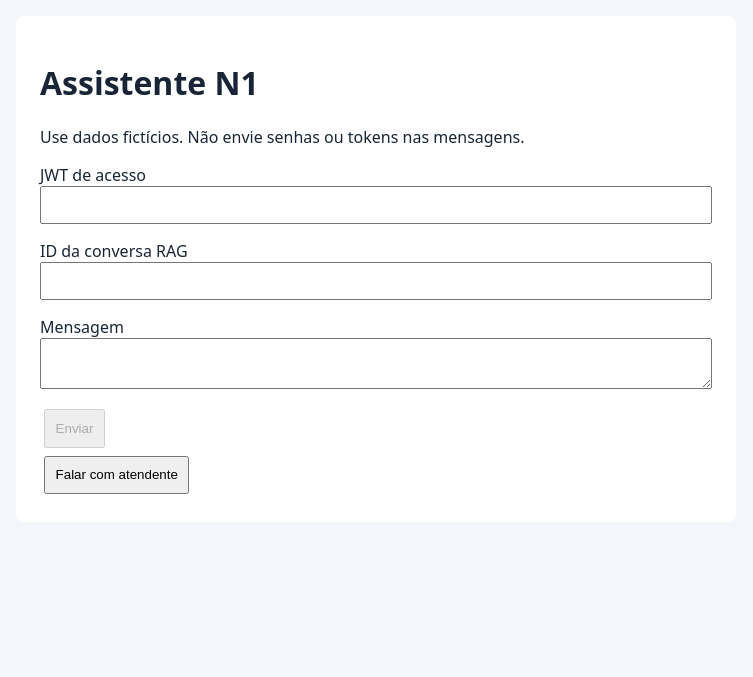
envia mensagem autenticada e apresenta resposta e confirmação
Later steps or results of the test are not shown.
Step 1. Type "jwt-ficticio" into the password field labelled "JWT de acesso" → (376, 205), box [40, 186, 712, 224]
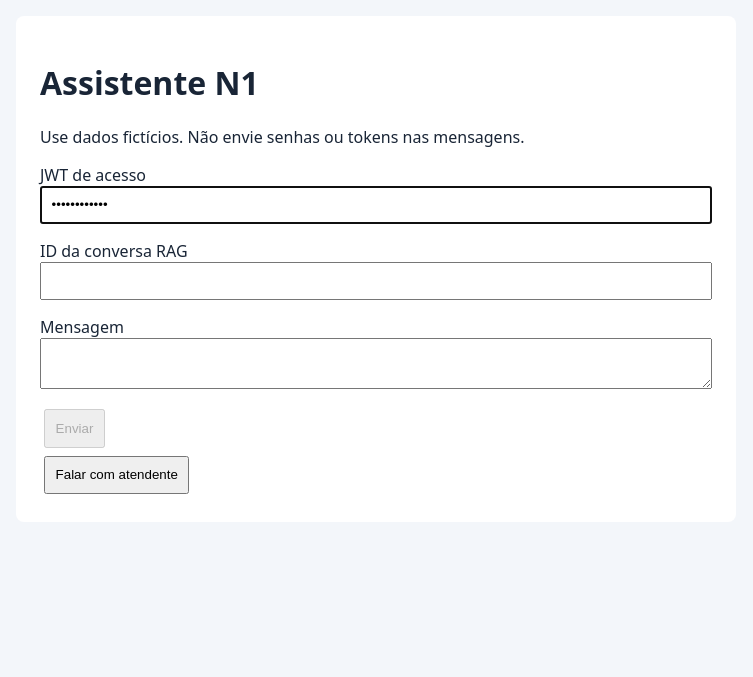
Step 2. Type "rag-123" into the field labelled "ID da conversa RAG" → (376, 281), box [40, 262, 712, 300]
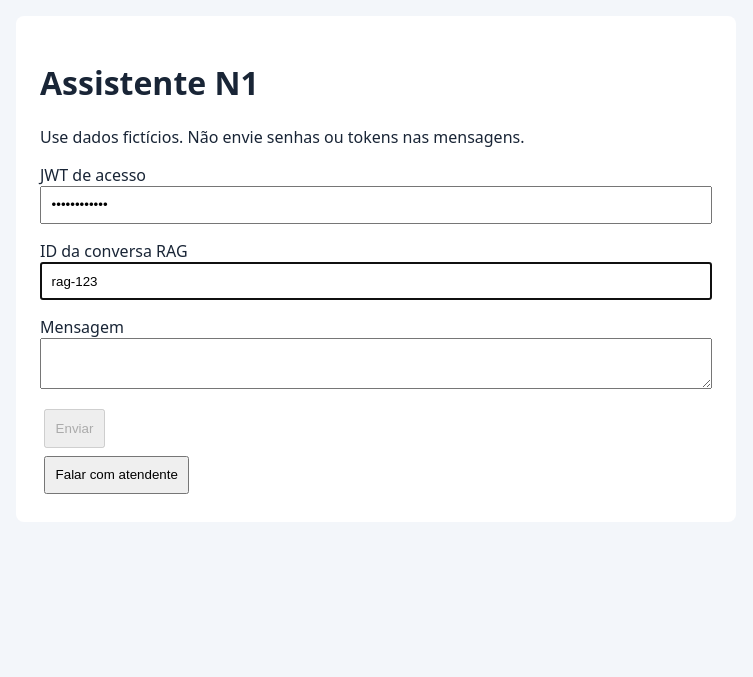
Step 3. Type "Preciso de ajuda" into the text box labelled "Mensagem" → (376, 364), box [40, 338, 712, 390]
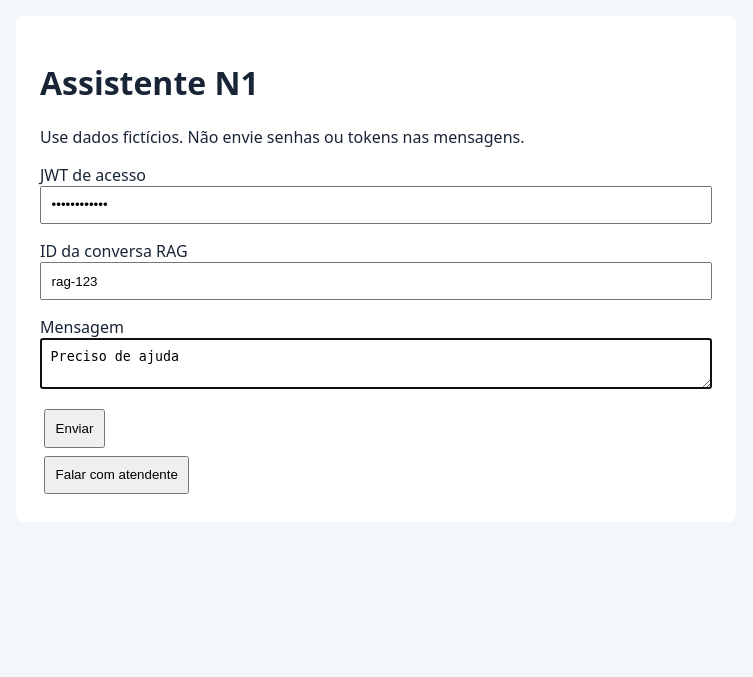
Step 4. Click the button "Enviar" → (74, 428), box [44, 409, 105, 448]
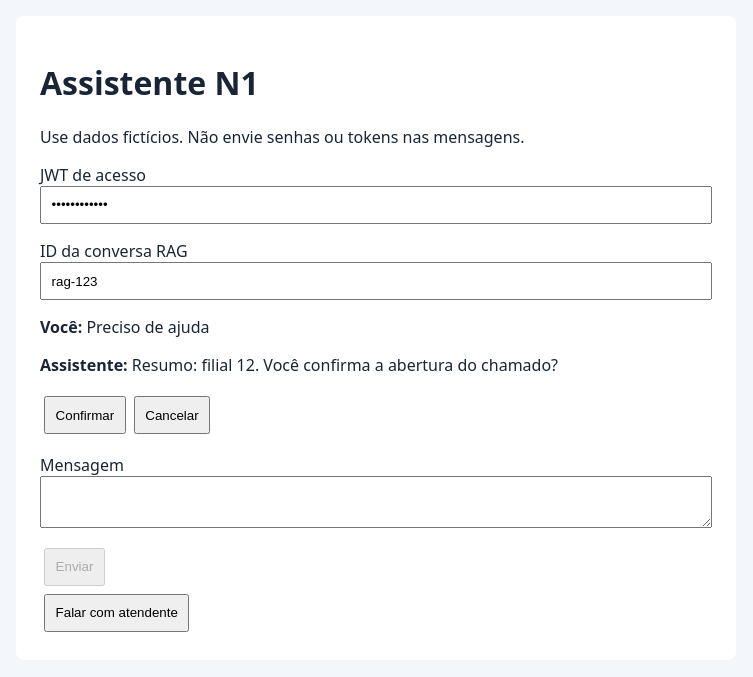
Result: the text "Resumo: filial 12" is shown at [132, 354, 558, 376]
Result: the button "Confirmar" is shown at [44, 396, 126, 434]
